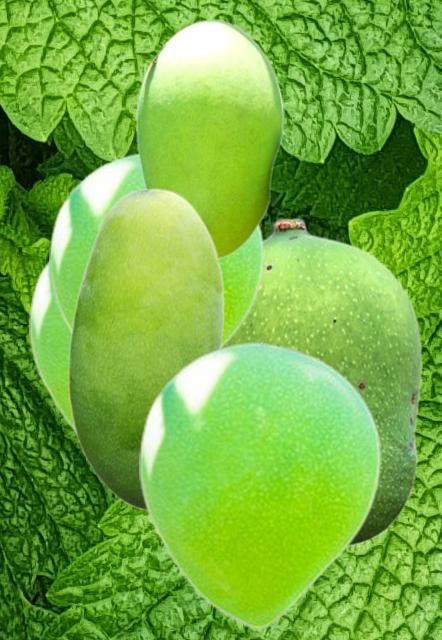green_mango: (139, 341, 380, 629), (227, 217, 421, 547), (67, 187, 224, 511), (49, 151, 263, 345), (135, 18, 283, 259), (29, 257, 75, 436)
